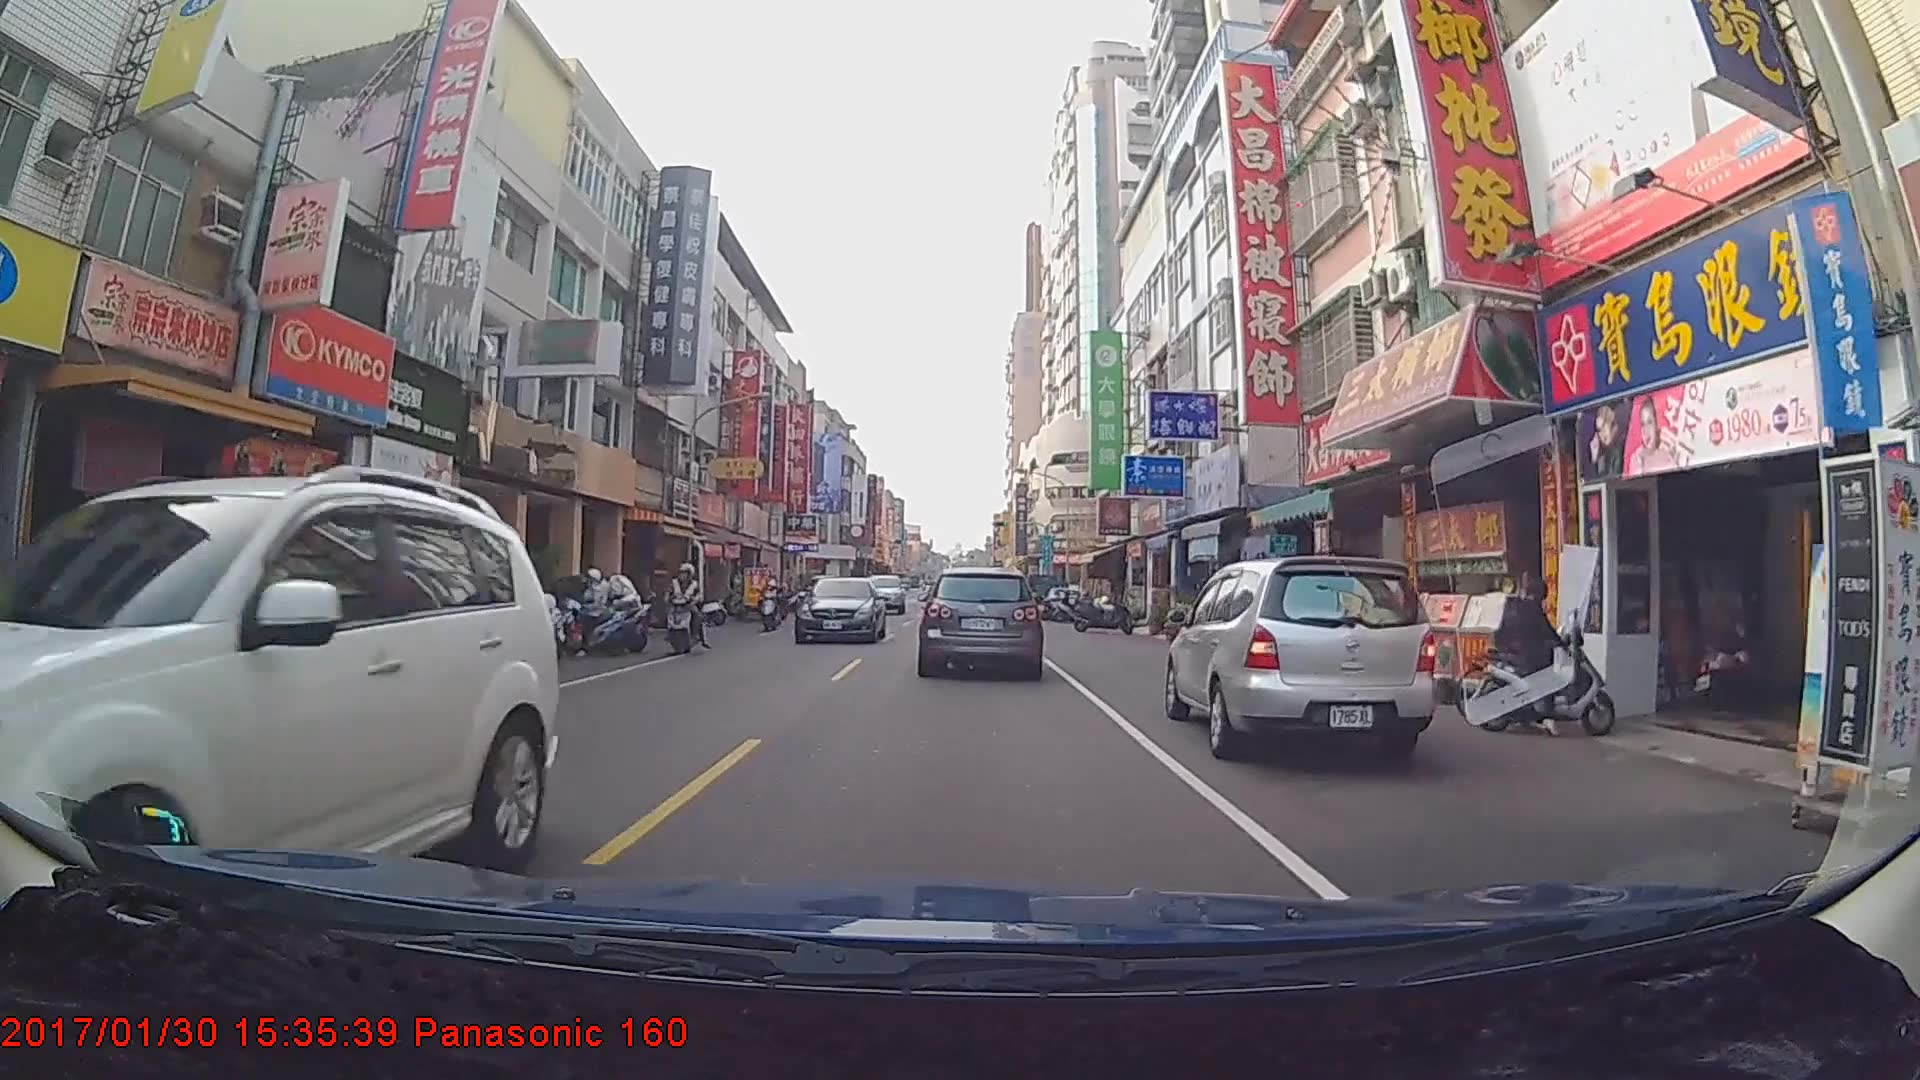rider: (1471, 574, 1626, 747), (654, 558, 716, 654), (755, 577, 784, 630)
vehicle: (0, 470, 563, 976), (1163, 558, 1433, 760), (919, 566, 1040, 676), (793, 577, 887, 644), (857, 572, 905, 613)
